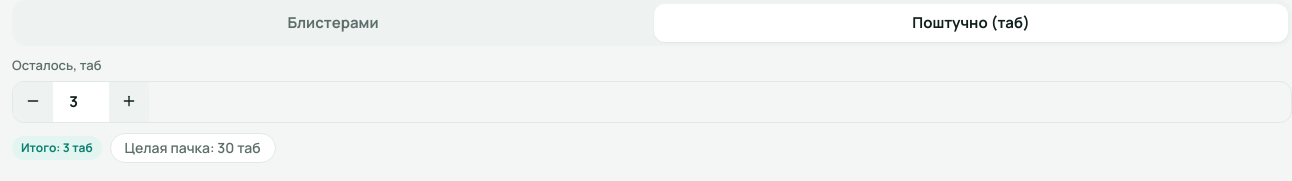
Scenario: QuantityInput › кнопка «Целая пачка» ставит размер упаковки
What coordinates should you click on to do the following:
click the tab "Блистерами"
I would click on:
 (333, 23)
Its box is [16,4,650,42].
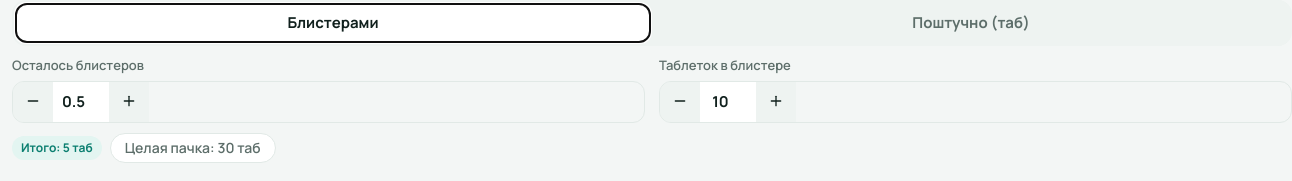
What coordinates should you click on to do the following:
click the button "Целая пачка: 30 таб"
I would click on:
 (193, 148)
Its box is [110,133,276,163].
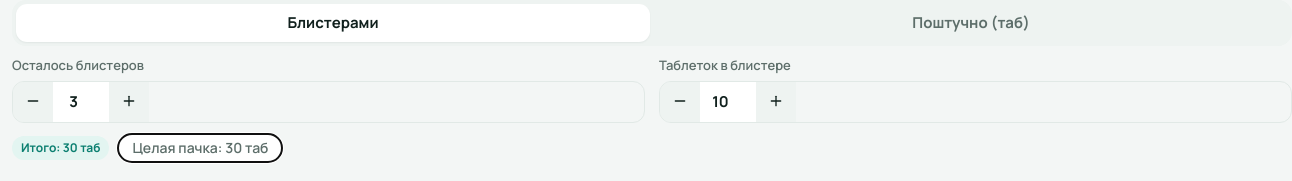
Expected: the text "Итого: 30 таб" is shown, [12,136,110,160]
Expected: the number field named "Осталось блистеров" holds "3", [53,82,109,122]
